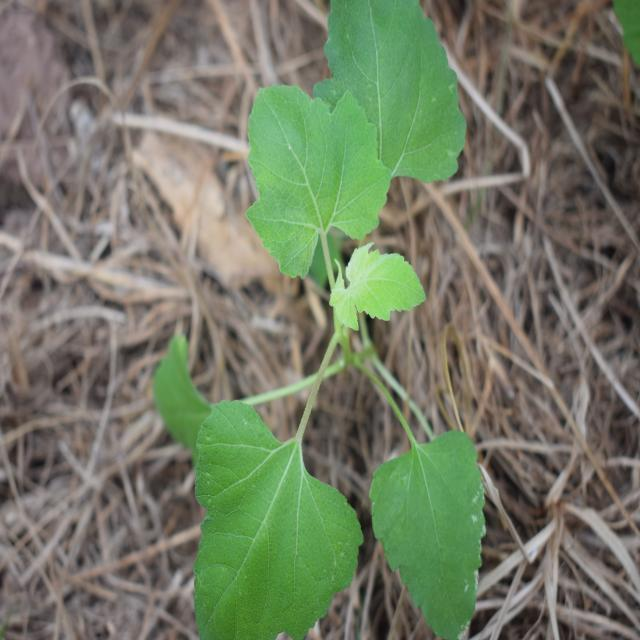cocklebur: (147, 11, 503, 624)
